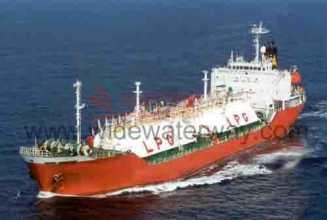Cargoship: (23, 28, 306, 193)
